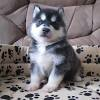Siberian Husky: (16, 3, 100, 100)
